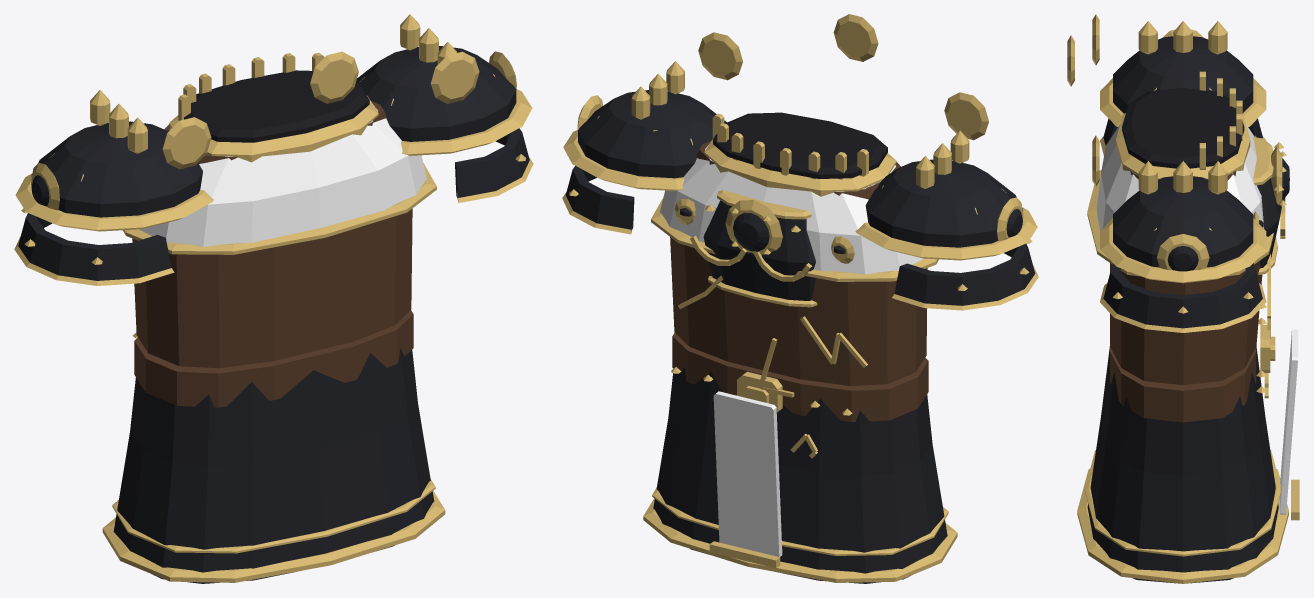
The model's file is look3_armor_healer_transcendent.fbx.
3 views of the same model, side by side, from view 1: azimuth 30°, elevation 25°; view 2: azimuth 150°, elevation 25°; view 3: azimuth 270°, elevation 25° (orthographic). The views are drawn at different scales.
Parts seen in each view (by area): view 1: Main, Tasset; view 2: Main, Tasset; view 3: Main, Tasset.
Boxes of the visible parts, x1=… form: Main: x1=14, y1=14, x2=533, y2=407; Tasset: x1=102, y1=348, x2=445, y2=583; Main: x1=562, y1=14, x2=1038, y2=422; Tasset: x1=643, y1=367, x2=957, y2=583; Main: x1=1067, y1=14, x2=1289, y2=422; Tasset: x1=1077, y1=329, x2=1299, y2=583.
Size of the model in its own units: 426 by 425 by 186.
